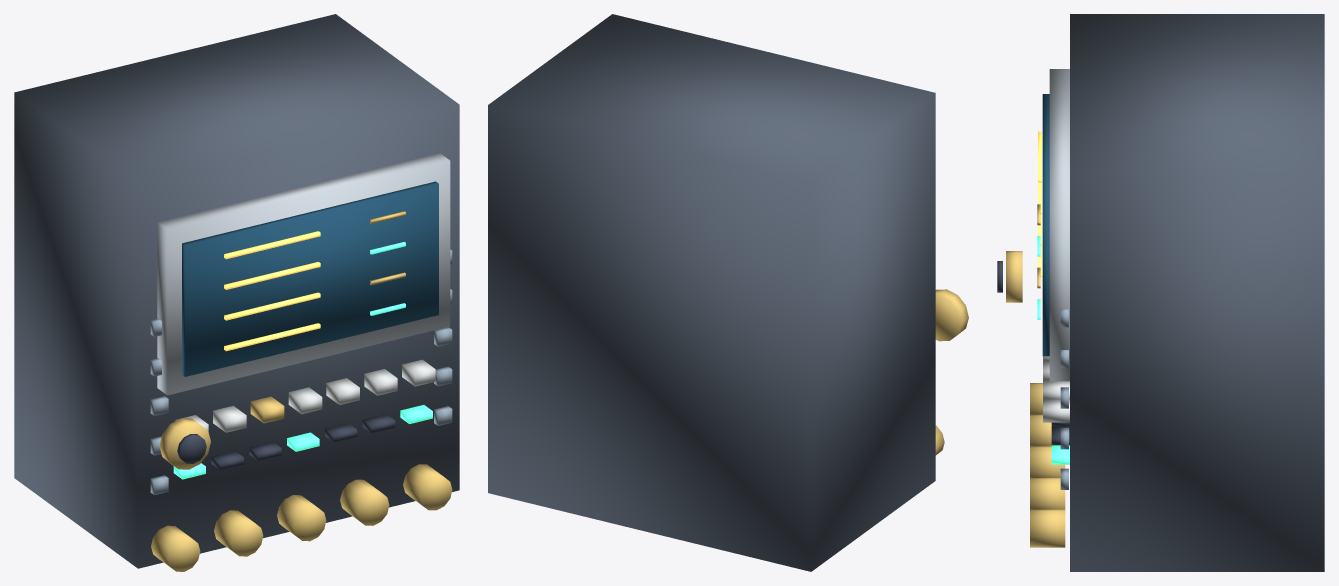
File: 53_L86_CoolantPressureTransducer.glb
The picture shows the model from 3 angles, left to right: view 1: azimuth 30°, elevation 25°; view 2: azimuth 150°, elevation 25°; view 3: azimuth 270°, elevation 25°; orthographic projection. The views are drawn at different scales.
Visible parts, largest first — view 1: L86_CoolantPressureTransducer, L86_CoolantPressureTransducer_Part_0010, L86_CoolantPressureTransducer_Part_0011; view 2: L86_CoolantPressureTransducer, L86_CoolantPressureTransducer_Part_0010; view 3: L86_CoolantPressureTransducer, L86_CoolantPressureTransducer_Part_0010.
Part boxes in pixels (x1=…): L86_CoolantPressureTransducer: x1=14, y1=14, x2=459, y2=571; L86_CoolantPressureTransducer_Part_0010: x1=159, y1=418, x2=210, y2=469; L86_CoolantPressureTransducer_Part_0011: x1=177, y1=434, x2=206, y2=463; L86_CoolantPressureTransducer: x1=488, y1=14, x2=944, y2=571; L86_CoolantPressureTransducer_Part_0010: x1=935, y1=289, x2=968, y2=341; L86_CoolantPressureTransducer: x1=1030, y1=14, x2=1324, y2=571; L86_CoolantPressureTransducer_Part_0010: x1=1006, y1=251, x2=1022, y2=302.
Bounding box in the file's own units: 0.9644 × 1.1 × 0.8216.
